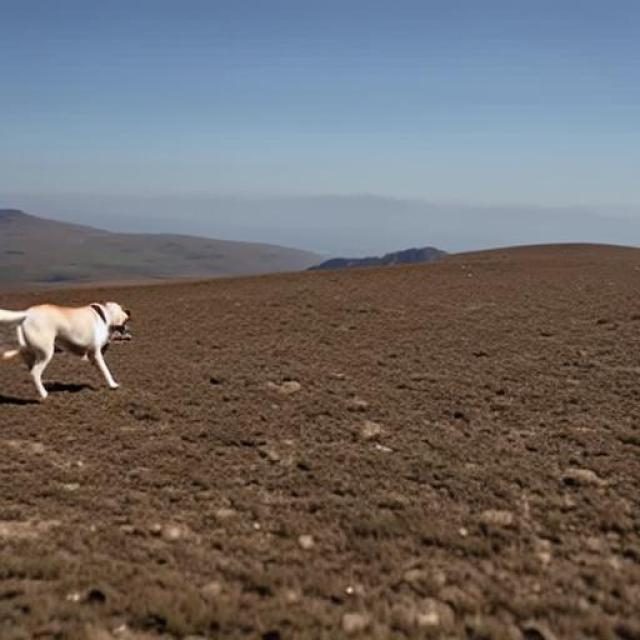Dog: (0, 300, 133, 399)
